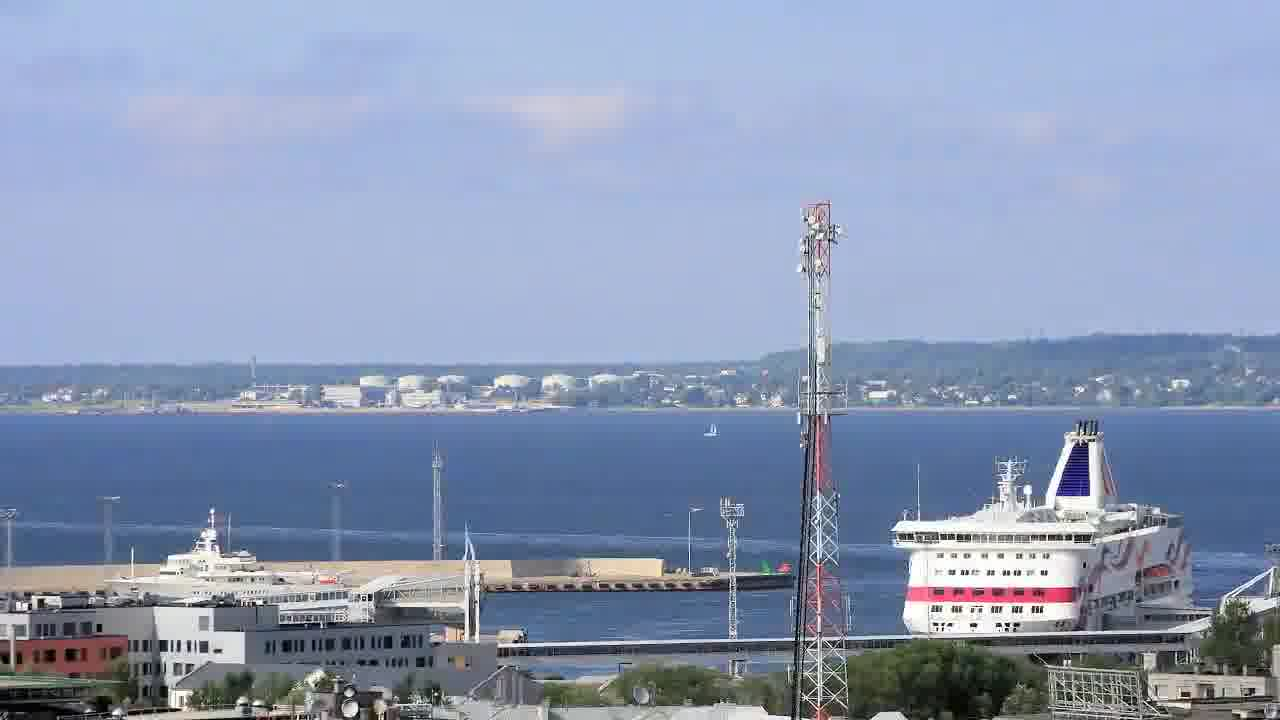type-2: (684, 401, 740, 456)
type-3: (868, 415, 1225, 638), (84, 511, 353, 609)
